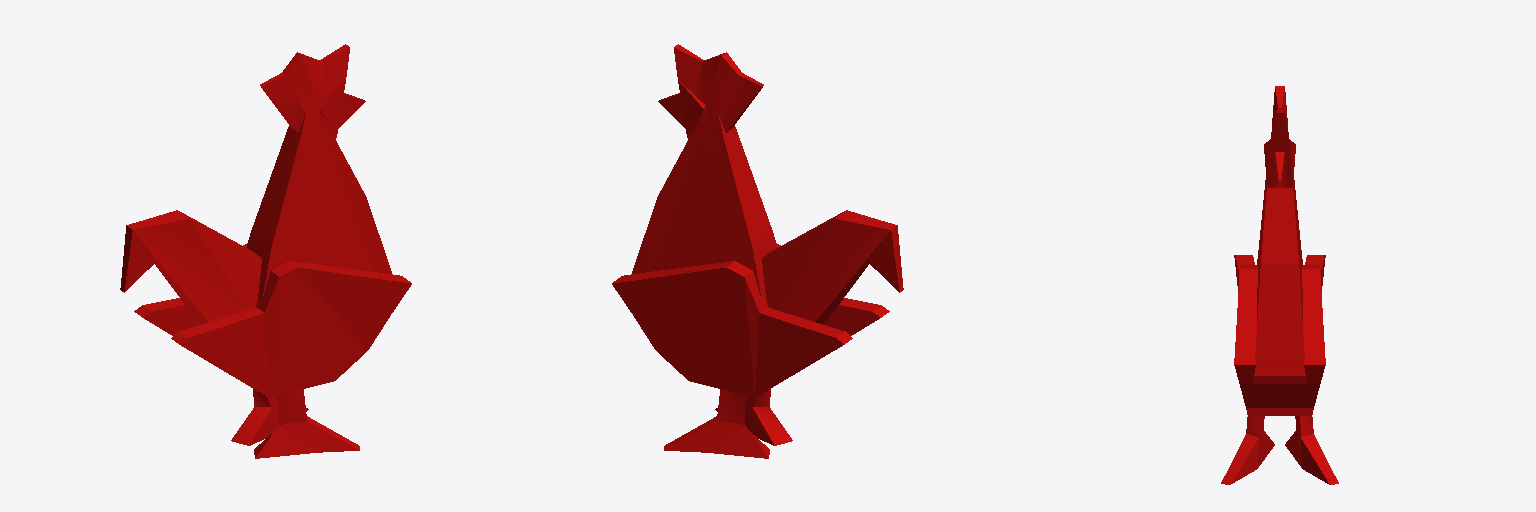
File: french-tech.obj
The picture shows the model from 3 angles: view 1: azimuth 30°, elevation 25°; view 2: azimuth 150°, elevation 25°; view 3: azimuth 270°, elevation 25°; orthographic projection.
Visible parts, largest first — view 1: Plane.003_Plane.004; view 2: Plane.003_Plane.004; view 3: Plane.003_Plane.004.
Boxes of the visible parts, <box> form: Plane.003_Plane.004: <box>120,44,411,458</box>; Plane.003_Plane.004: <box>612,44,903,458</box>; Plane.003_Plane.004: <box>1221,86,1338,484</box>.
Bounding box in the file's own units: 6.5 × 8.89 × 2.49.